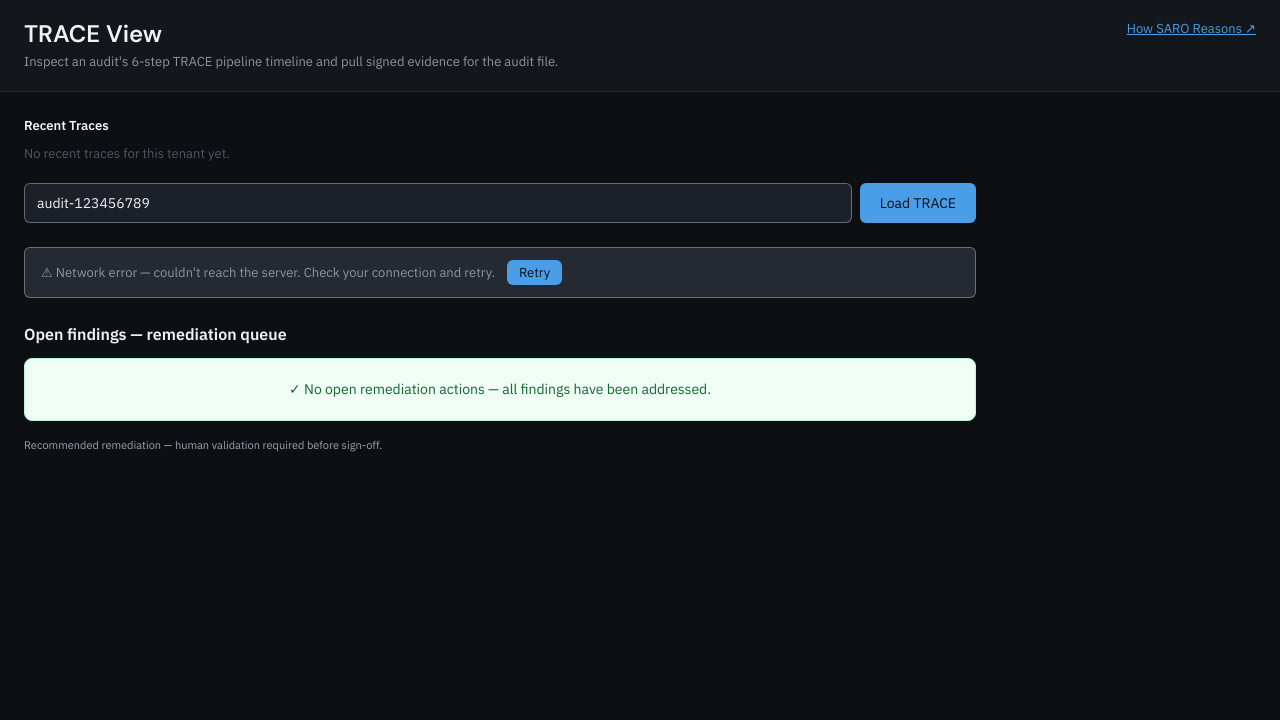
it: TraceView TRACE-010 loading + differentiated error states › network/transient failure → a transient message with a working Retry
Expected: the text "Network error" is shown, [56, 264, 495, 281]
Click the button "Retry": (535, 273) [507, 260, 562, 285]
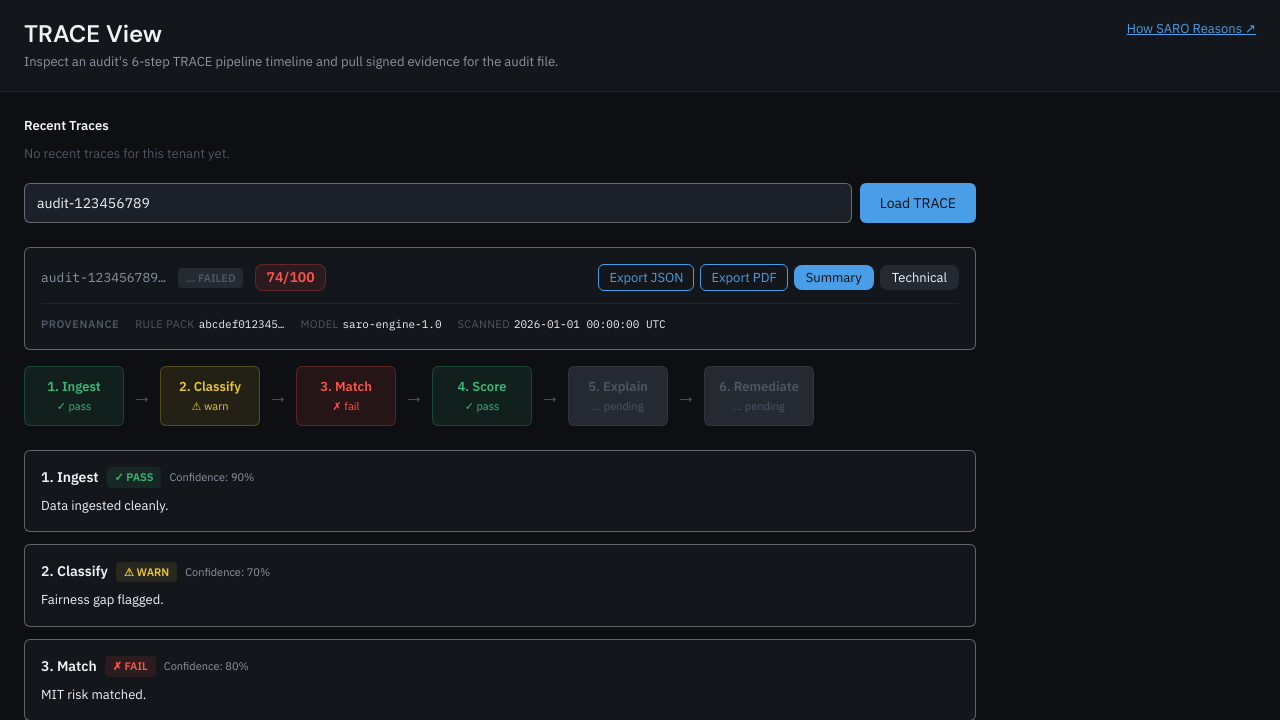
Result: the text "74/100" is shown at [256, 264, 326, 291]
